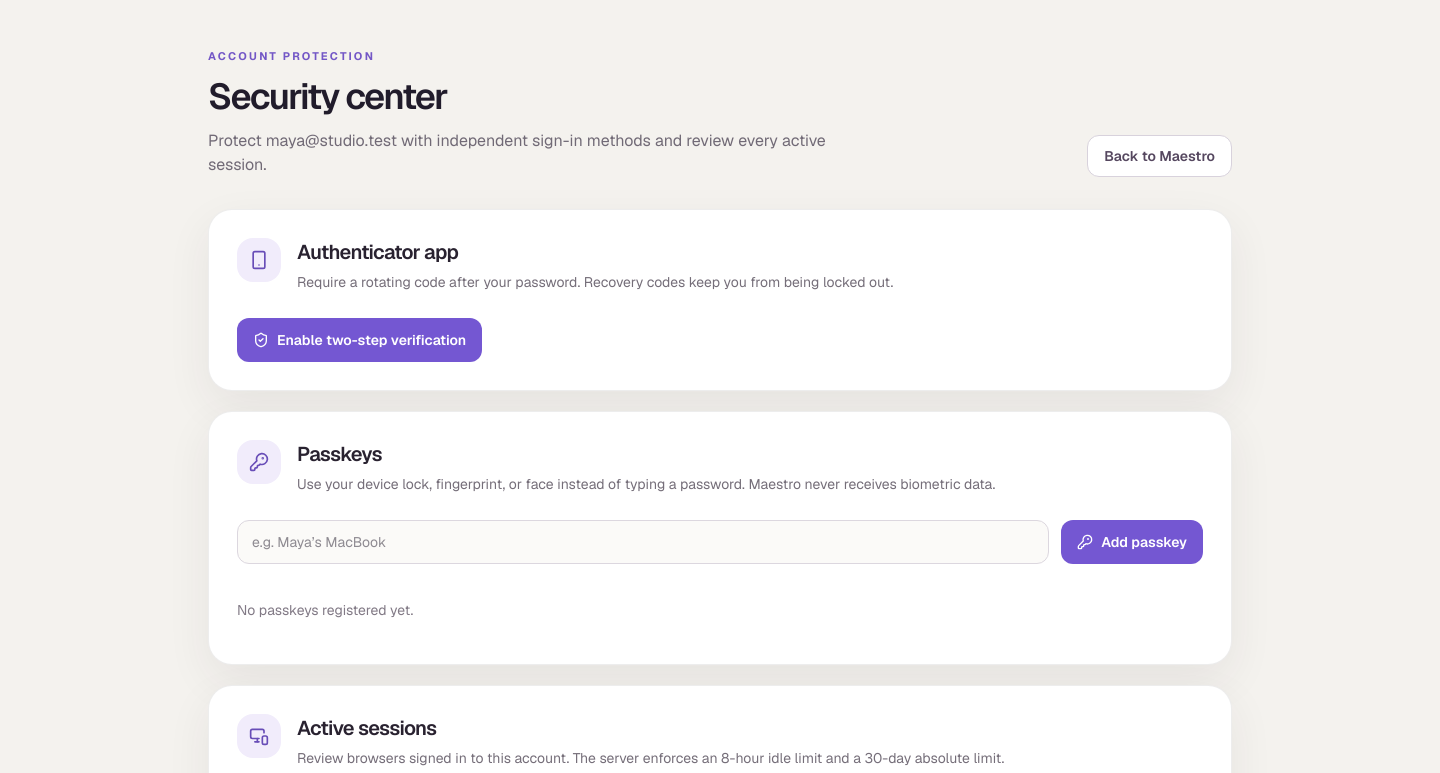
Scenario: account security center › creates a passkey through the injected WebAuthn ceremony and reloads inventory
Type "Maya’s MacBook" into the field named "Passkey name". click: [643, 542]
box: [237,520,1049,564]
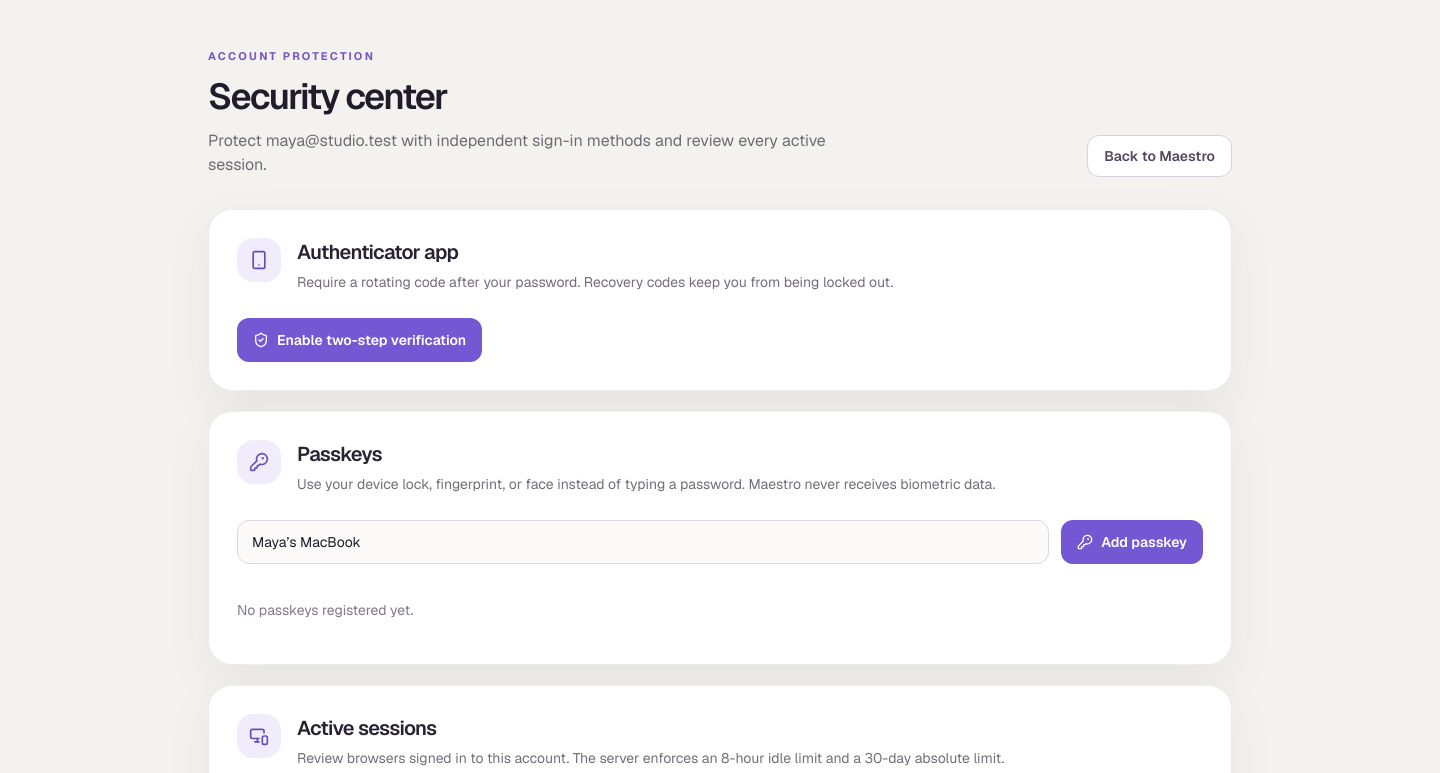
Click the button "Add passkey". click: [1132, 542]
box: [1061,520,1203,564]
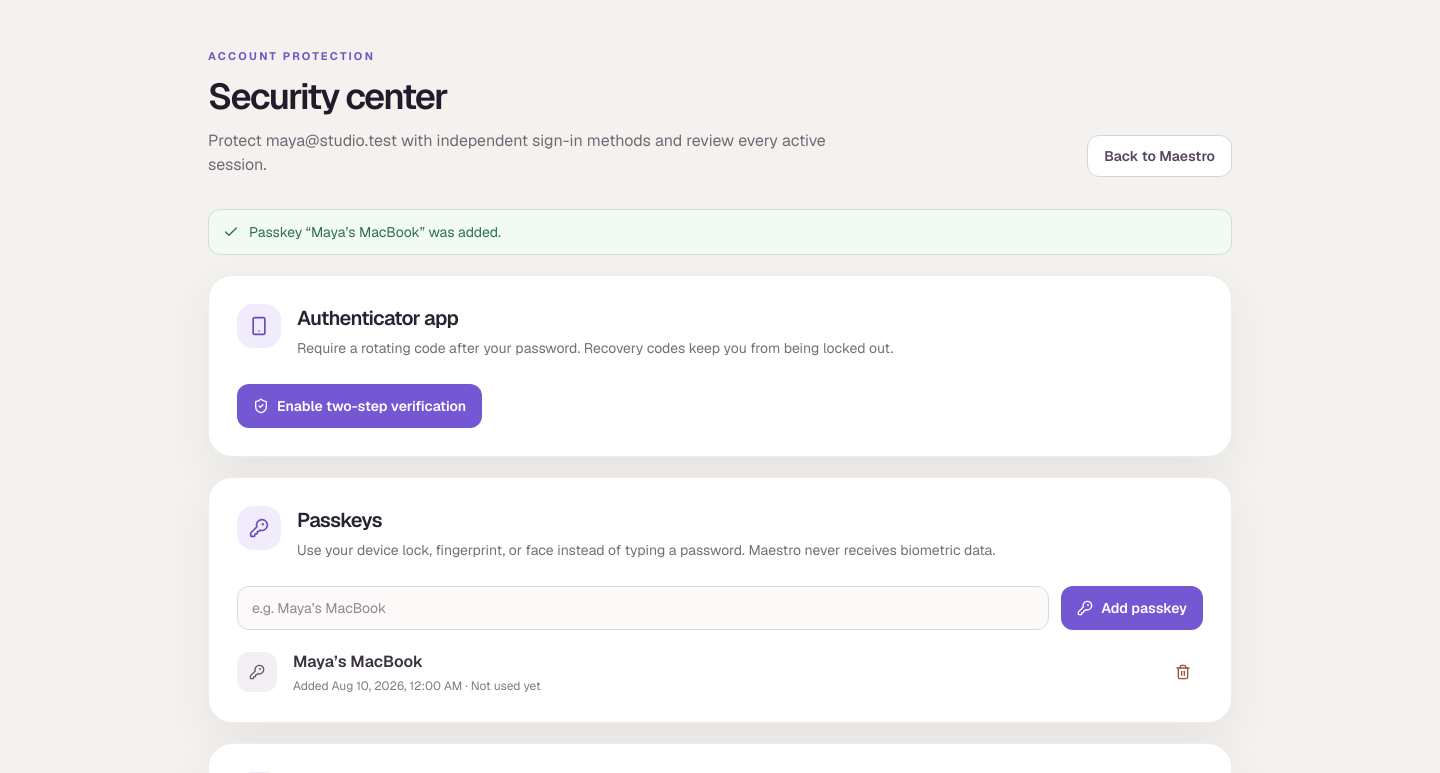
Result: the text "Maya’s MacBook" is shown at [293,650,423,672]
